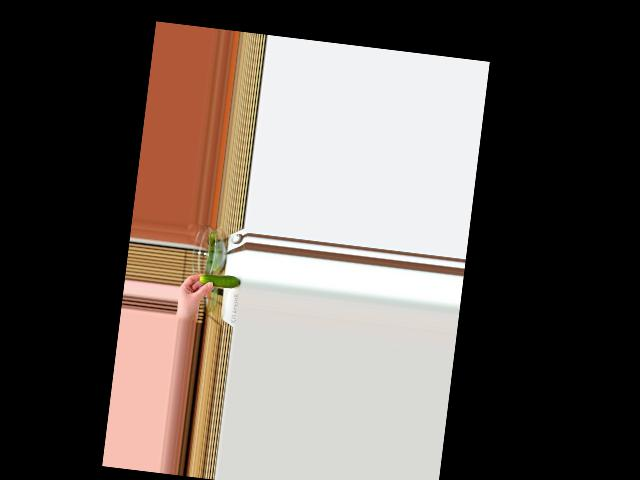cucumber: (199, 272, 240, 289)
